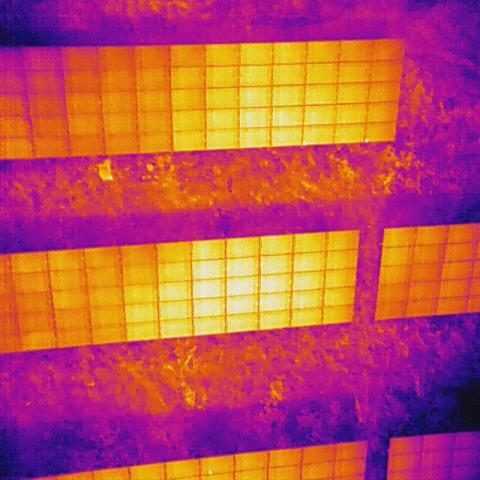fault: (300, 139, 309, 148), (206, 468, 215, 477), (365, 133, 370, 146)
